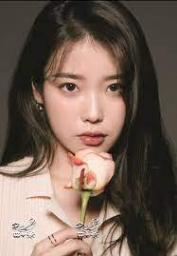face: (49, 44, 128, 148)
